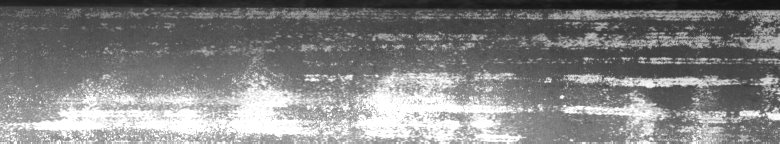kb: (5, 4, 776, 136)
